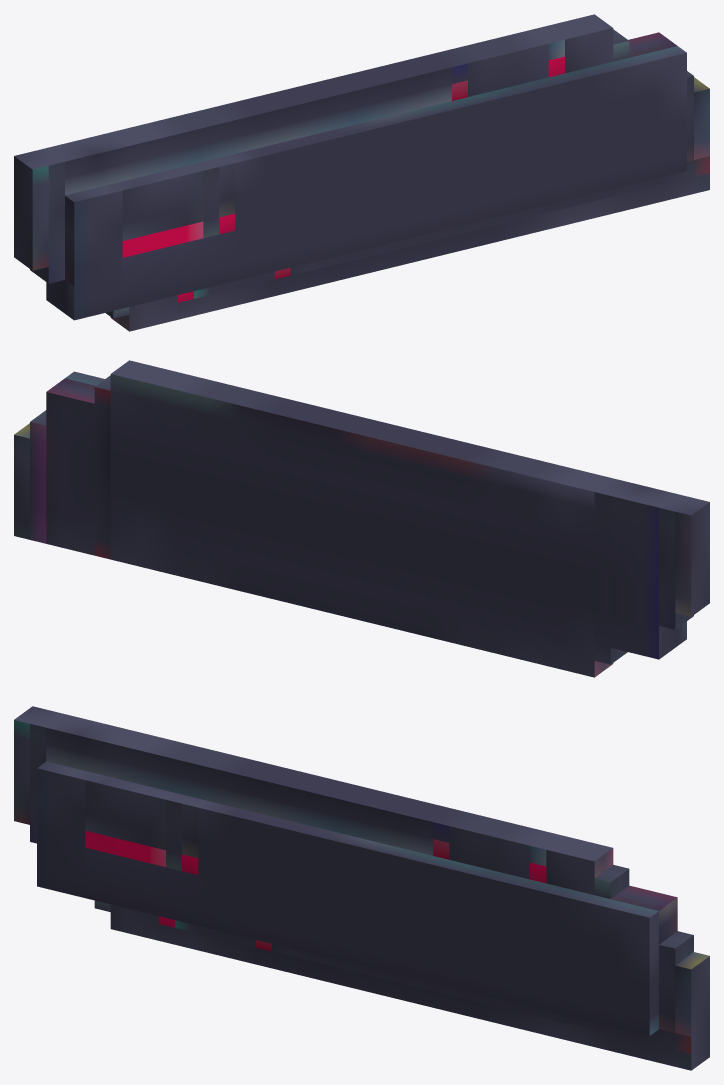
The model's file is Electronics_Plate_Small_D_00.fbx.
3 views of the same model, one above another, from view 1: azimuth 30°, elevation 25°; view 2: azimuth 150°, elevation 25°; view 3: azimuth 330°, elevation 25° (orthographic).
Parts seen in each view (by area): view 1: Electronics_Plate_Small_D_00; view 2: Electronics_Plate_Small_D_00; view 3: Electronics_Plate_Small_D_00.
Part boxes in pixels (x1,y1,x2,y2): Electronics_Plate_Small_D_00: [14, 14, 709, 331]; Electronics_Plate_Small_D_00: [14, 360, 709, 677]; Electronics_Plate_Small_D_00: [14, 706, 709, 1070].
Bounding box in the file's own units: 210 × 55 × 15.
